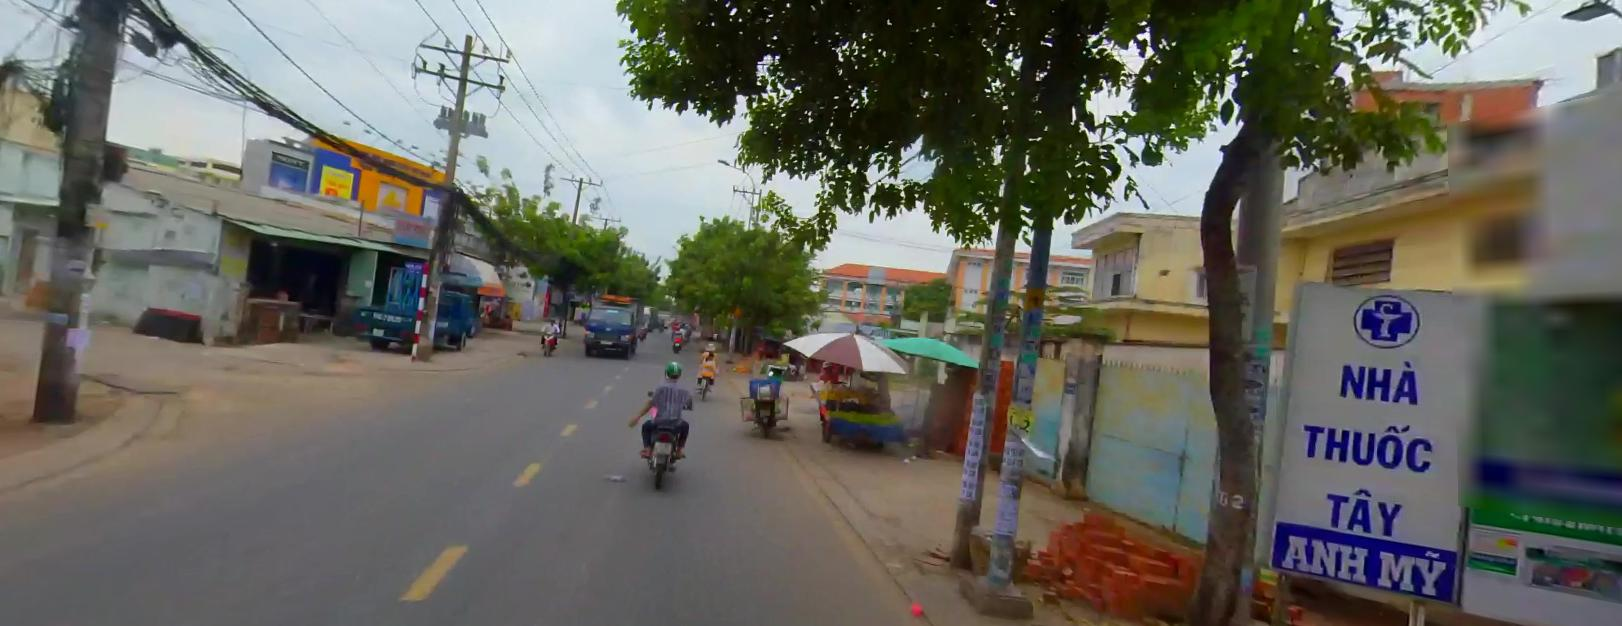Nguy hiem: (731, 302, 745, 318)
